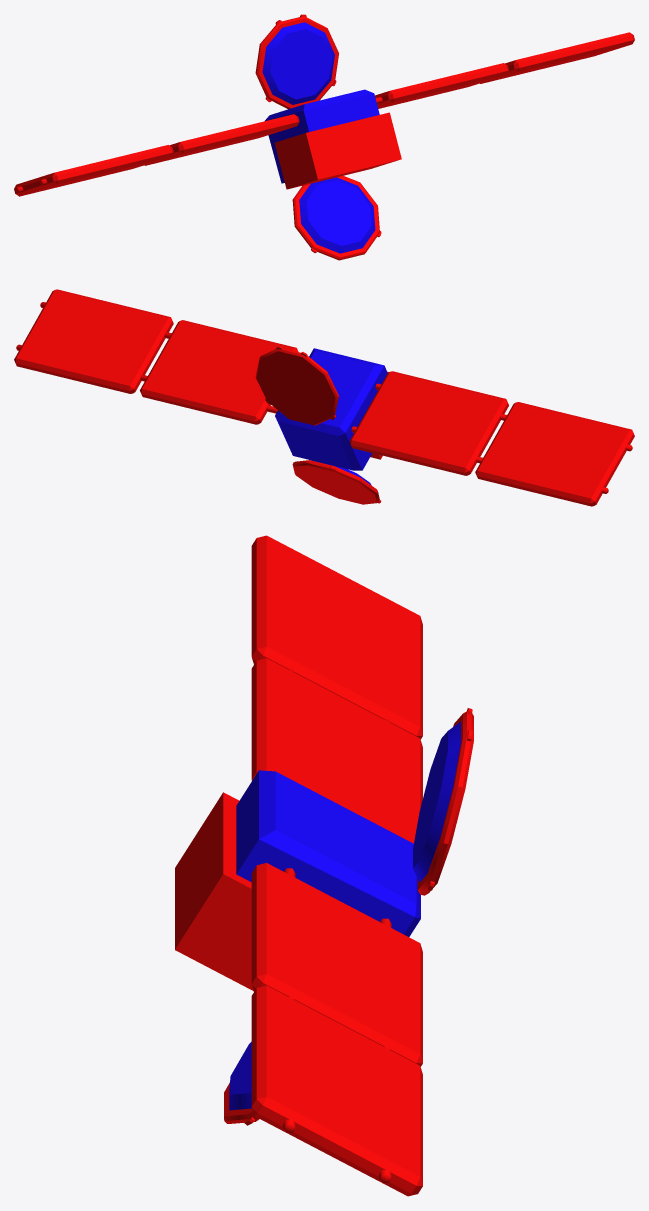
The model's file is Satellite 2.FBX.
3 renders of one model, top to bottom at view 1: azimuth 30°, elevation 25°; view 2: azimuth 150°, elevation 25°; view 3: azimuth 270°, elevation 25°, orthographic. The views are drawn at different scales.
Visible parts, largest first — view 1: Satellite002; view 2: Satellite002; view 3: Satellite002.
Part boxes in pixels (bbox=[...]): Satellite002: bbox=[14, 14, 634, 260]; Satellite002: bbox=[14, 289, 634, 506]; Satellite002: bbox=[175, 535, 473, 1196].
Size of the model in its own units: 282 by 89.36 by 61.82.
